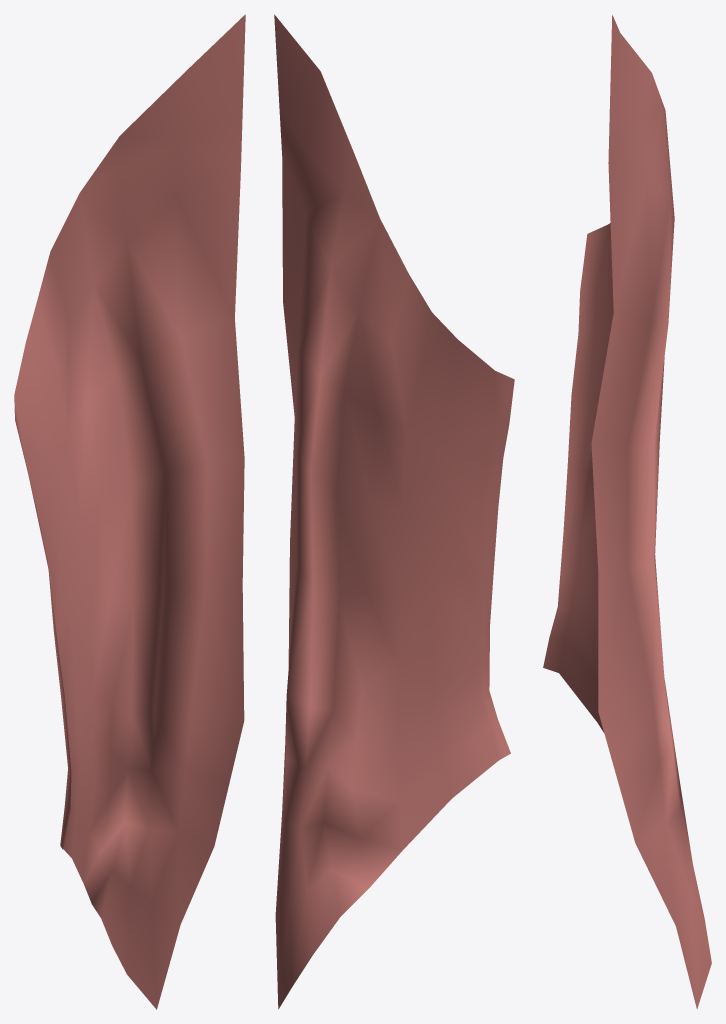
3 views of the same model, side by side, from view 1: azimuth 30°, elevation 25°; view 2: azimuth 150°, elevation 25°; view 3: azimuth 270°, elevation 25° (orthographic). The views are drawn at different scales.
Parts seen in each view (by area): view 1: ZA_e5f2046e2fc70252; view 2: ZA_e5f2046e2fc70252; view 3: ZA_e5f2046e2fc70252.
Part boxes in pixels (box(x1,y1,x2,y2)): ZA_e5f2046e2fc70252: box(14, 14, 245, 1009); ZA_e5f2046e2fc70252: box(274, 14, 514, 1009); ZA_e5f2046e2fc70252: box(543, 15, 711, 1009).
Bounding box in the file's own units: 0.0456 × 0.182 × 0.0273.
